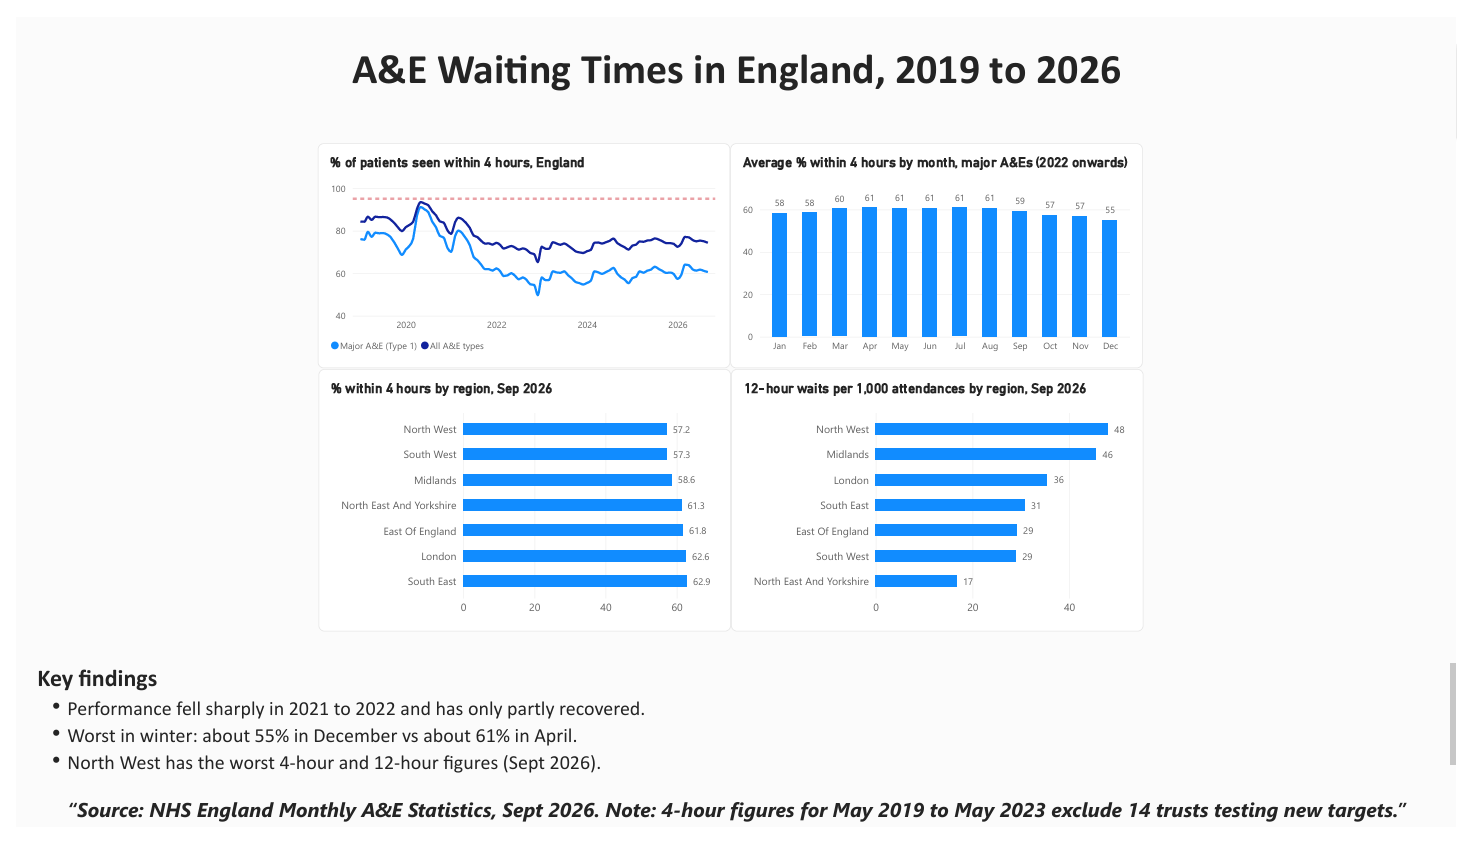

The dashboard page shown, as its layout file describes it:
{"tool":"powerbi","page":{"name":"Page 1","canvas":[1920,1080],"ordinal":0},"visuals":[{"type":"lineChart","title":"% of patients seen within 4 hours, England","fields":{"Category":["clean_time_series.month"],"Y":["Avg(clean_time_series.pct_type1)","Avg(clean_time_series.pct_all)"]},"box":[401.1,167.2,550,300],"z":0},{"type":"clusteredColumnChart","title":"Average % within 4 hours by month, major A&Es (2022 onwards)","fields":{"Category":["clean_by_month.MonthName"],"Y":["Avg(clean_by_month.pct_type1)"]},"box":[950.8,167.2,550,300],"z":1000},{"type":"clusteredBarChart","title":"% within 4 hours by region, Sep 2026","fields":{"Category":["clean_regions.Parent Org"],"Y":["Avg(clean_regions.pct_within_4h)"]},"box":[402,467.9,550,350],"z":2000},{"type":"clusteredBarChart","title":"12-hour waits per 1,000 attendances by region, Sep 2026","fields":{"Category":["clean_regions.Parent Org"],"Y":["Avg(clean_regions.waits_12h_per_1000)"]},"box":[951.7,467.9,550,350],"z":3000},{"type":"textbox","box":[0,34.1,1919.3,93.1],"z":4000},{"type":"textbox","box":[27.3,860.8,1892,149.9],"z":5000},{"type":"textbox","box":[0,1035.7,1919.3,43.2],"z":6000}]}

Visuals, with their boxes in screenshot pixels (x1, y1, x2, y2), scaled from the page's 1920x1080 canvas onto the 1468x844 screenshot:
"% of patients seen within 4 hours, England" lineChart: [x1=307, y1=131, x2=727, y2=365]
"Average % within 4 hours by month, major A&Es (2022 onwards)" clusteredColumnChart: [x1=727, y1=131, x2=1147, y2=365]
"% within 4 hours by region, Sep 2026" clusteredBarChart: [x1=307, y1=366, x2=728, y2=639]
"12-hour waits per 1,000 attendances by region, Sep 2026" clusteredBarChart: [x1=728, y1=366, x2=1148, y2=639]
textbox: [x1=0, y1=27, x2=1467, y2=99]
textbox: [x1=21, y1=673, x2=1467, y2=790]
textbox: [x1=0, y1=809, x2=1467, y2=843]
